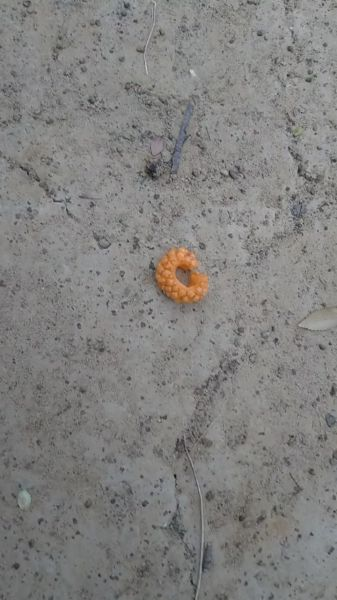eggs: (157, 243, 217, 305)
